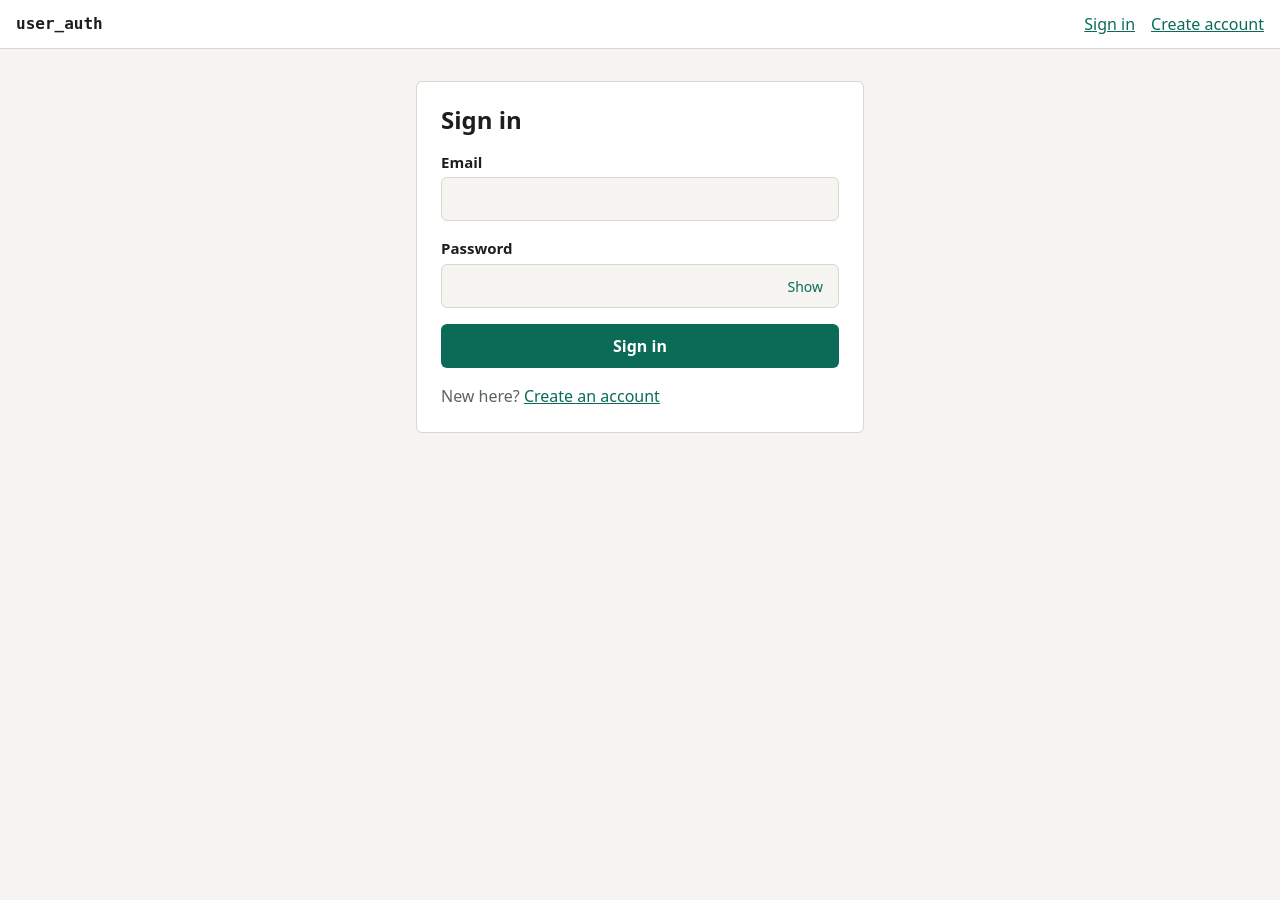
login form › signs in and lands on the dashboard
In the field labelled "Email": [640, 199] box [441,177,839,221], type " ann@example.com "
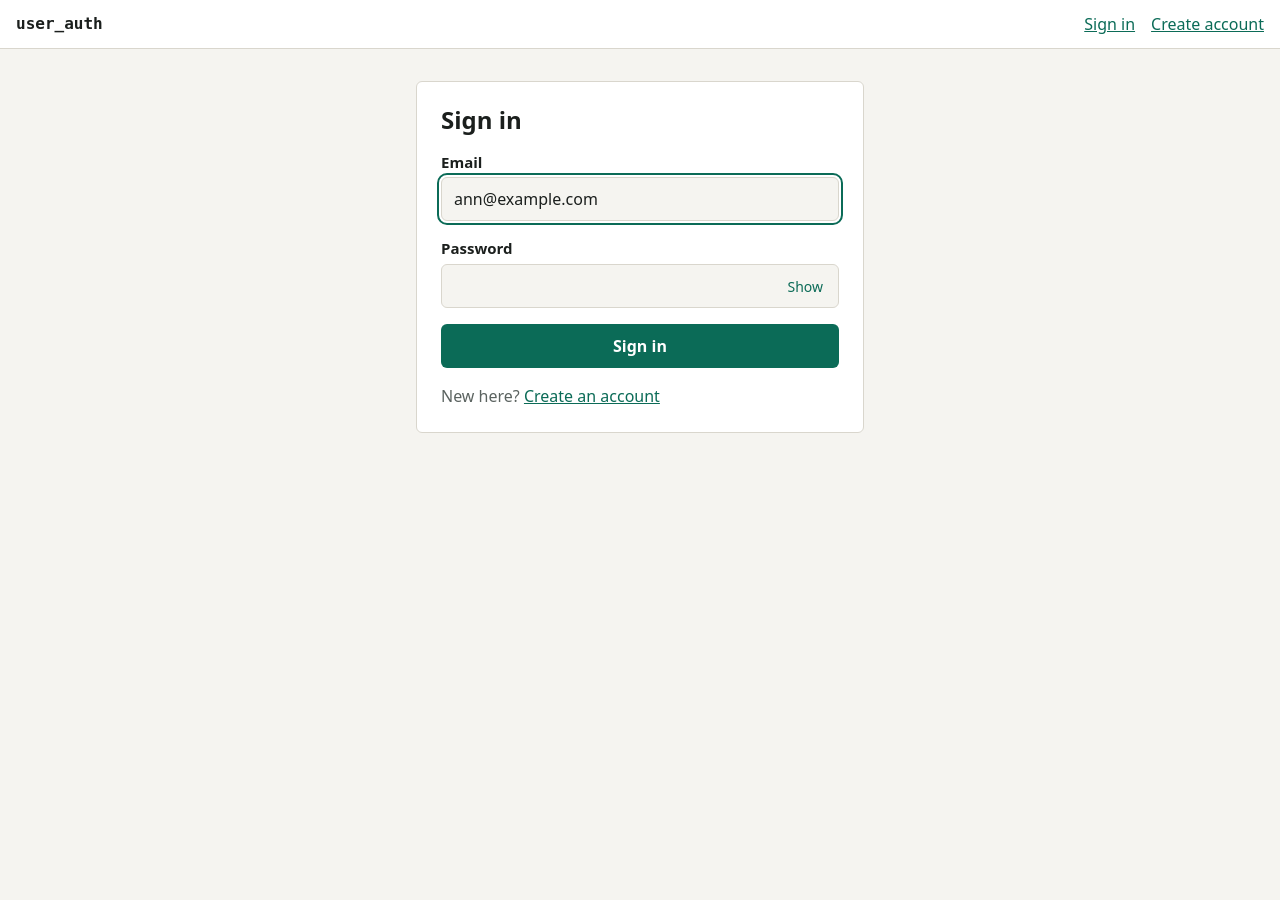
In the password field labelled "Password": [640, 286] box [441,264,839,308], type "password1"
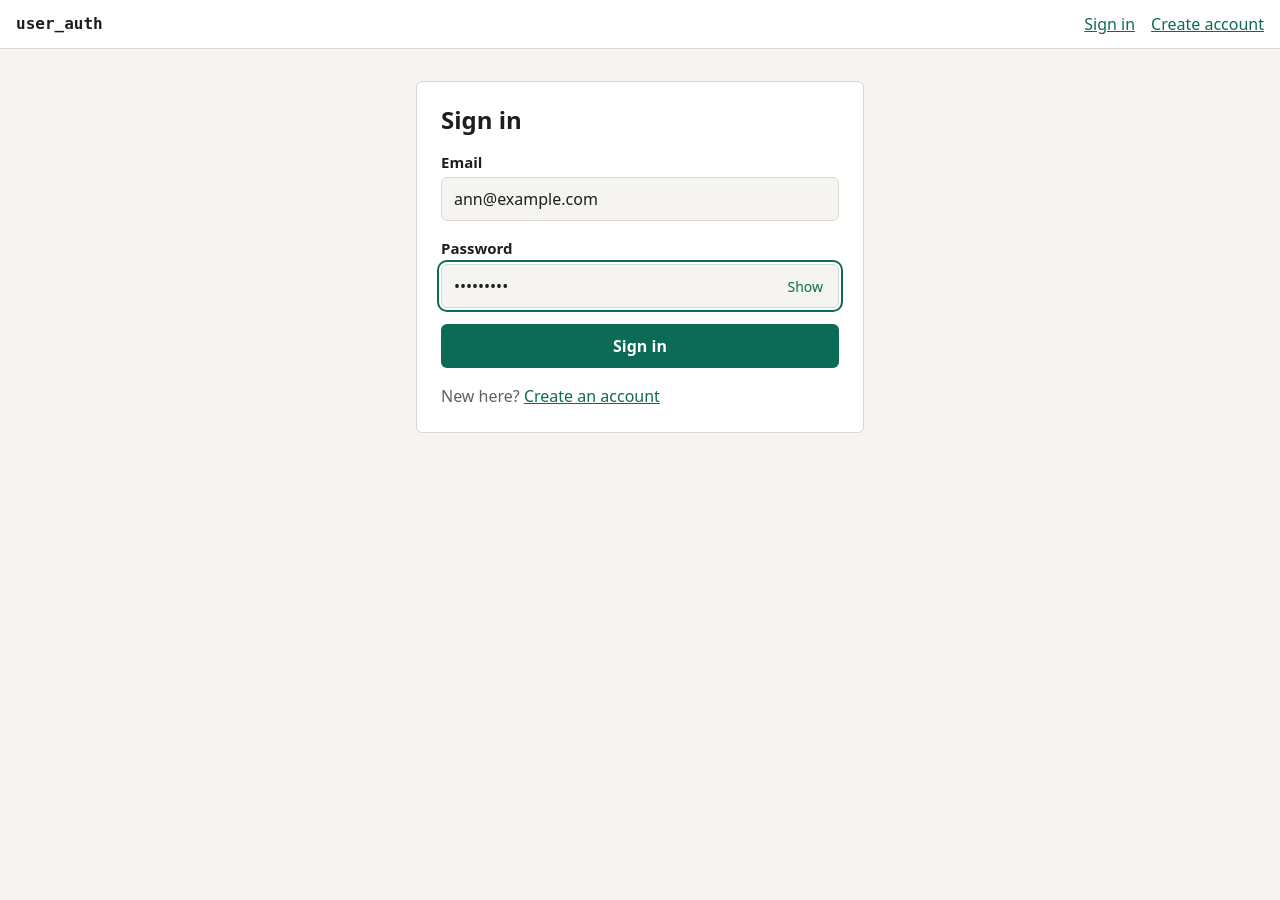
Click the button "Sign in": [640, 346] box [441,324,839,368]
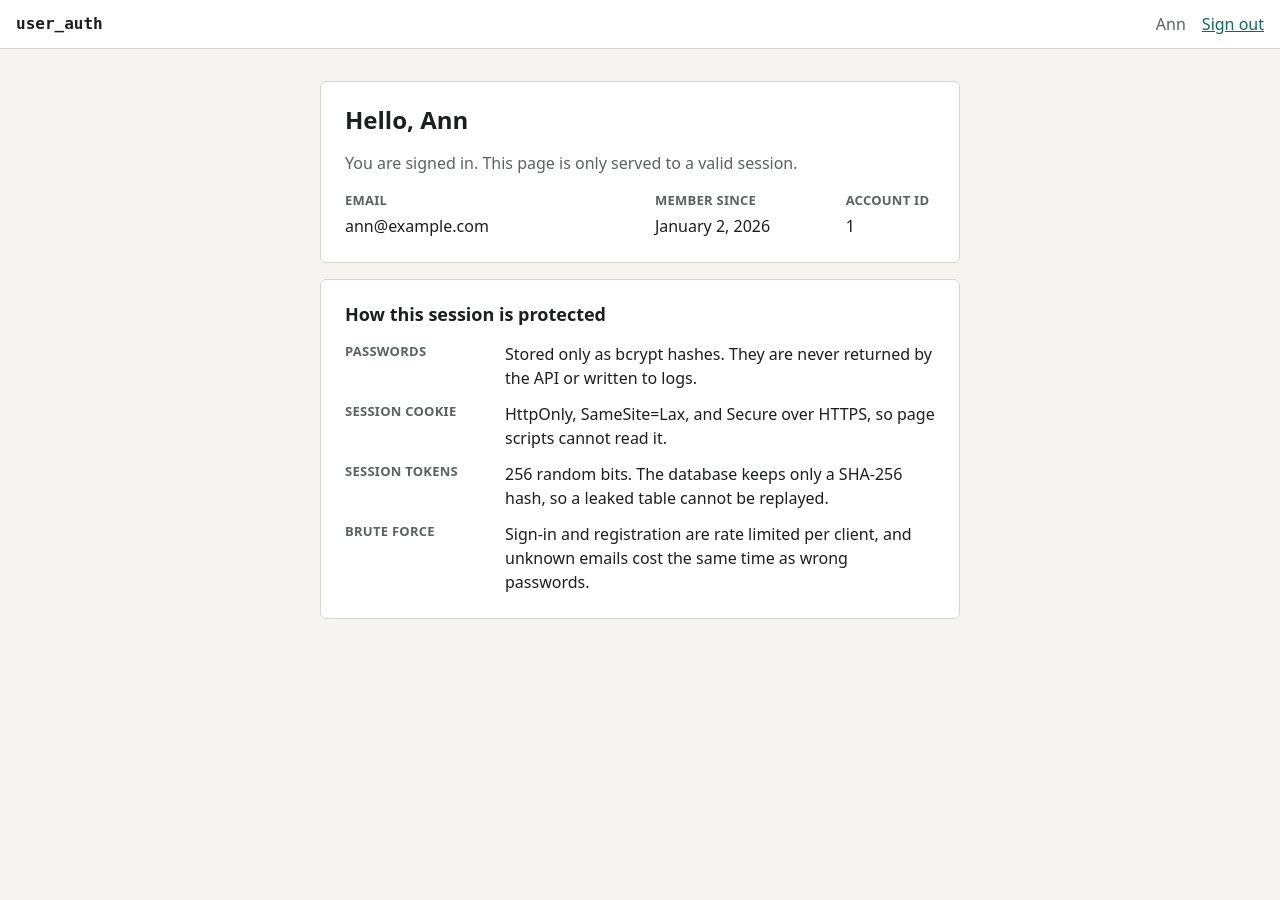
Now the heading "Hello, Ann" is shown, box [345,103,468,136]
